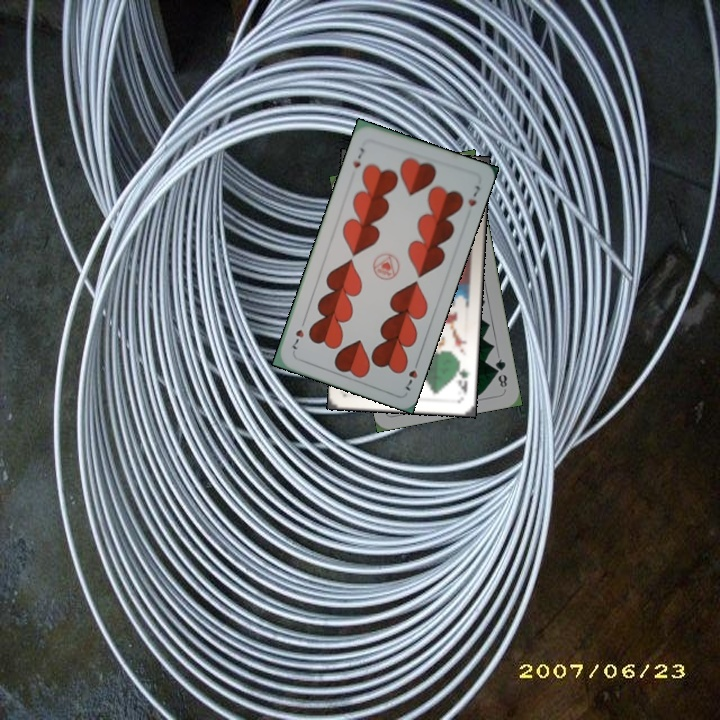G8: (491, 355, 510, 390)
GK: (453, 359, 472, 396)
H7: (402, 355, 422, 393), (349, 144, 367, 170)
